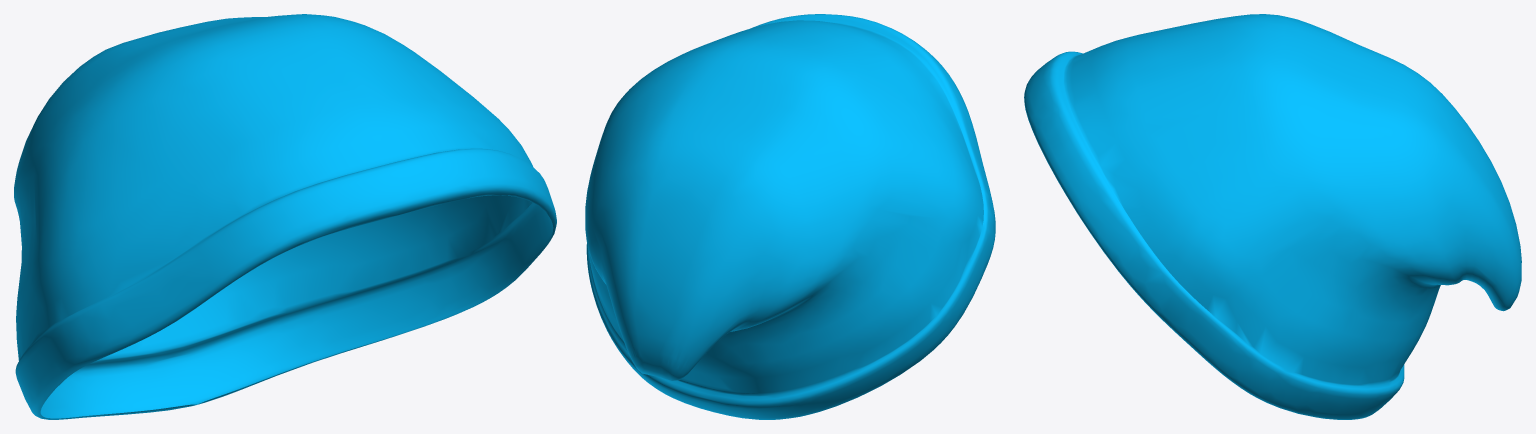
Rendered from headwear-beanie-pink-1bec5d9a.glb.
The picture shows the model from 3 angles, left to right: view 1: azimuth 30°, elevation 25°; view 2: azimuth 150°, elevation 25°; view 3: azimuth 270°, elevation 25°; orthographic projection. The views are drawn at different scales.
Parts seen in each view (by area): view 1: beanie_pink.001; view 2: beanie_pink.001; view 3: beanie_pink.001.
Boxes of the visible parts, box(x1,y1,x2,y2) form: beanie_pink.001: box(14, 14, 556, 419); beanie_pink.001: box(585, 14, 995, 419); beanie_pink.001: box(1024, 14, 1521, 419).
Bounding box in the file's own units: 2.35 × 1.95 × 2.5.
